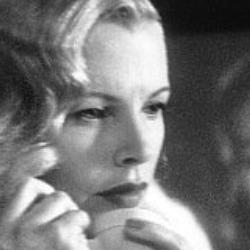face: (3, 3, 187, 233)
